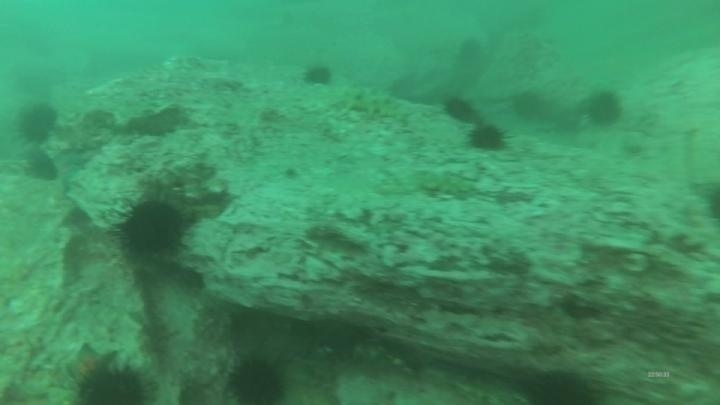echinus: (114, 193, 192, 263), (225, 353, 290, 405), (75, 364, 155, 404), (520, 367, 599, 405), (14, 100, 60, 146), (583, 88, 625, 129), (466, 121, 510, 154), (509, 88, 548, 123), (23, 150, 60, 184), (441, 94, 480, 126), (301, 61, 335, 90), (455, 35, 485, 67)
holothurian: (332, 83, 407, 122), (418, 170, 481, 202)
starfish: (63, 341, 119, 388)
